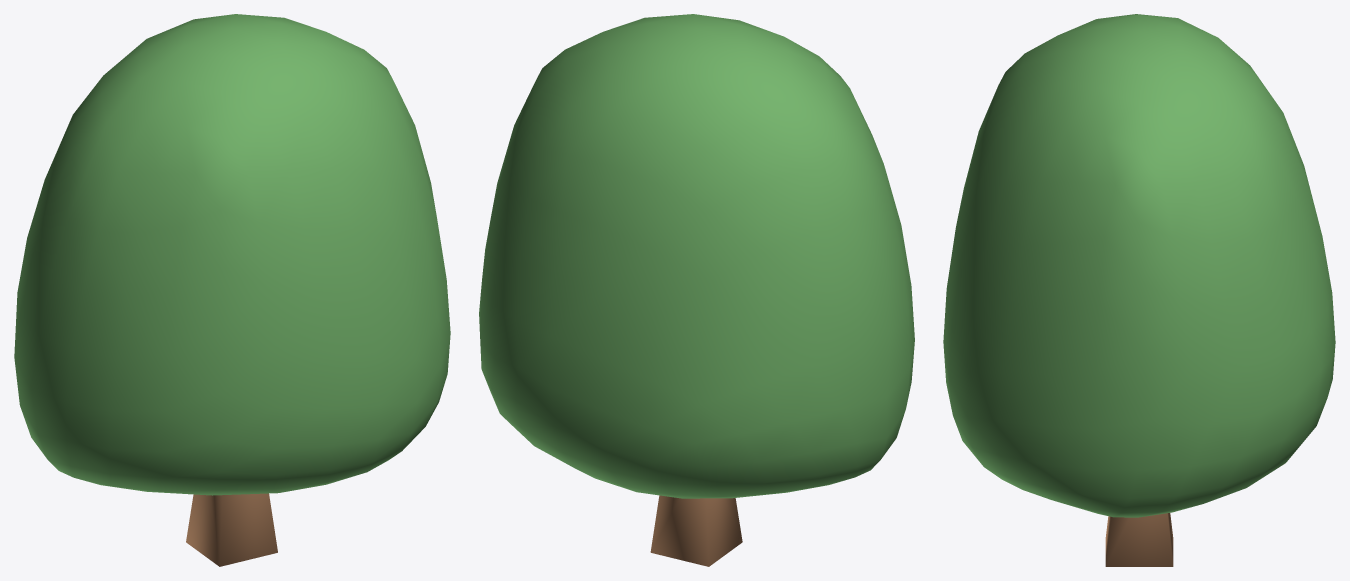
File: broad-tree.glb
3 renders of one model, left to right at view 1: azimuth 30°, elevation 25°; view 2: azimuth 150°, elevation 25°; view 3: azimuth 270°, elevation 25°, orthographic.
Visible parts, largest first — view 1: leafsGreen, woodBark; view 2: leafsGreen, woodBark; view 3: leafsGreen, woodBark.
Part boxes in pixels (x1,y1,x2,y2): leafsGreen: [14, 14, 450, 495]; woodBark: [186, 493, 277, 566]; leafsGreen: [479, 14, 914, 498]; woodBark: [650, 495, 742, 566]; leafsGreen: [943, 14, 1335, 517]; woodBark: [1105, 513, 1173, 566].
Size of the model in its own units: 0.9211 by 1.17 by 0.7977.
